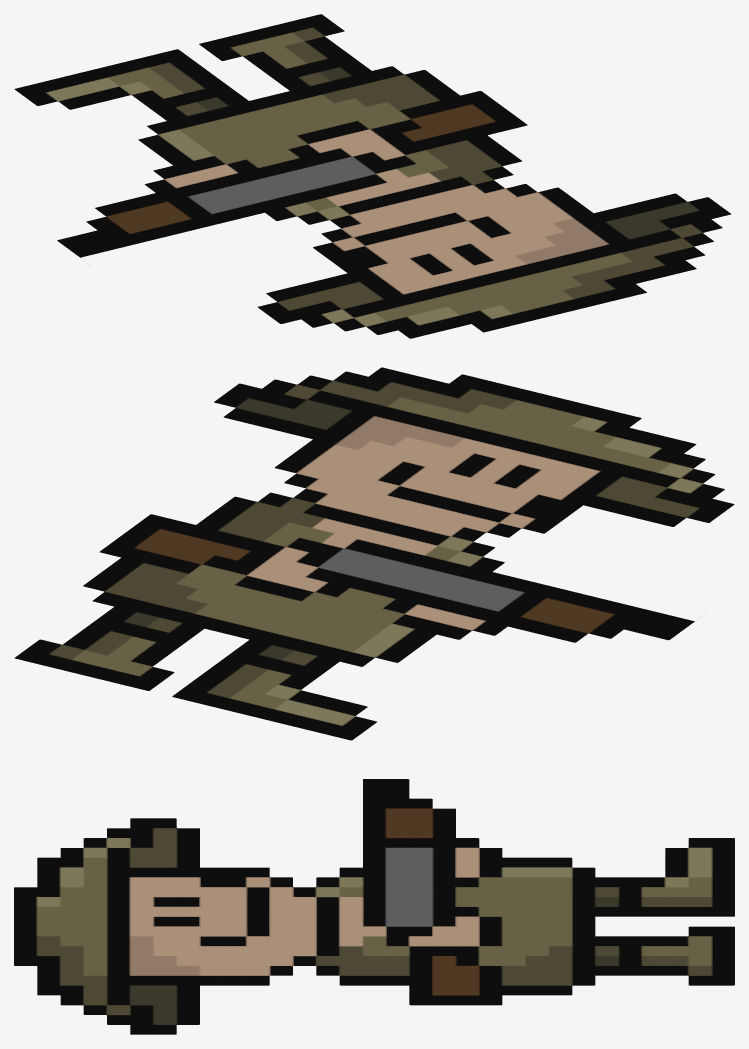
The model's file is player01.obj.
3 views of the same model, one above another, from view 1: azimuth 30°, elevation 25°; view 2: azimuth 150°, elevation 25°; view 3: azimuth 270°, elevation 25° (orthographic). The views are drawn at different scales.
Visible parts, largest first — view 1: p01_Plane.004; view 2: p01_Plane.004; view 3: p01_Plane.004.
Part boxes in pixels (left/top/right/bottom): p01_Plane.004: left=14, top=14, right=730, bottom=338; p01_Plane.004: left=15, top=367, right=734, bottom=740; p01_Plane.004: left=14, top=779, right=734, bottom=1034.
Bounding box in the file's own units: 1.69 × 0 × 1.94.
1 material, 1 textured.
